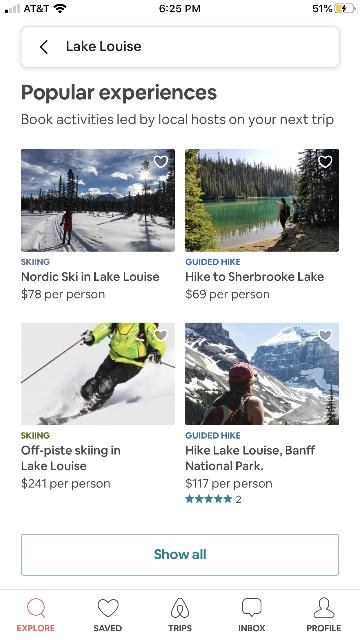Bottom_Navigation: (0, 588, 360, 640)
EditText: (21, 26, 340, 68)
Icon: (186, 493, 232, 502), (242, 598, 262, 618), (314, 598, 334, 618), (171, 598, 189, 618), (27, 598, 45, 618), (98, 599, 118, 617), (154, 154, 168, 168), (318, 154, 332, 168), (154, 328, 168, 342), (318, 328, 332, 342), (40, 40, 48, 54)
Image: (185, 148, 339, 252), (21, 149, 175, 251), (185, 323, 339, 425), (21, 323, 174, 425)
Text: (22, 84, 216, 104), (22, 114, 334, 126), (185, 446, 314, 470), (21, 444, 121, 470), (22, 476, 110, 489), (186, 476, 272, 489), (22, 272, 158, 280), (186, 272, 322, 280), (21, 288, 104, 300), (187, 288, 269, 300), (67, 40, 141, 51), (154, 549, 206, 559), (184, 258, 240, 264), (185, 432, 241, 438), (21, 258, 49, 266), (18, 625, 55, 631), (307, 625, 341, 631), (21, 432, 49, 438), (94, 625, 122, 631), (239, 625, 265, 631), (168, 625, 192, 631), (236, 496, 241, 502)
TextButton: (21, 534, 339, 576)
TextImageButton: (18, 598, 55, 630), (307, 597, 341, 631), (94, 599, 122, 631), (239, 598, 265, 632), (168, 598, 192, 630)
UpperTaskBar: (0, 0, 360, 14)
